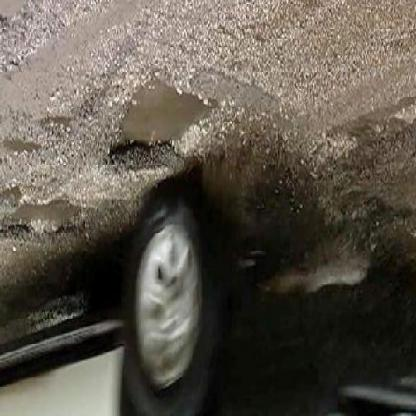pothole: (112, 74, 227, 173), (2, 183, 89, 247), (43, 116, 75, 144), (3, 138, 45, 158), (2, 2, 35, 26)
